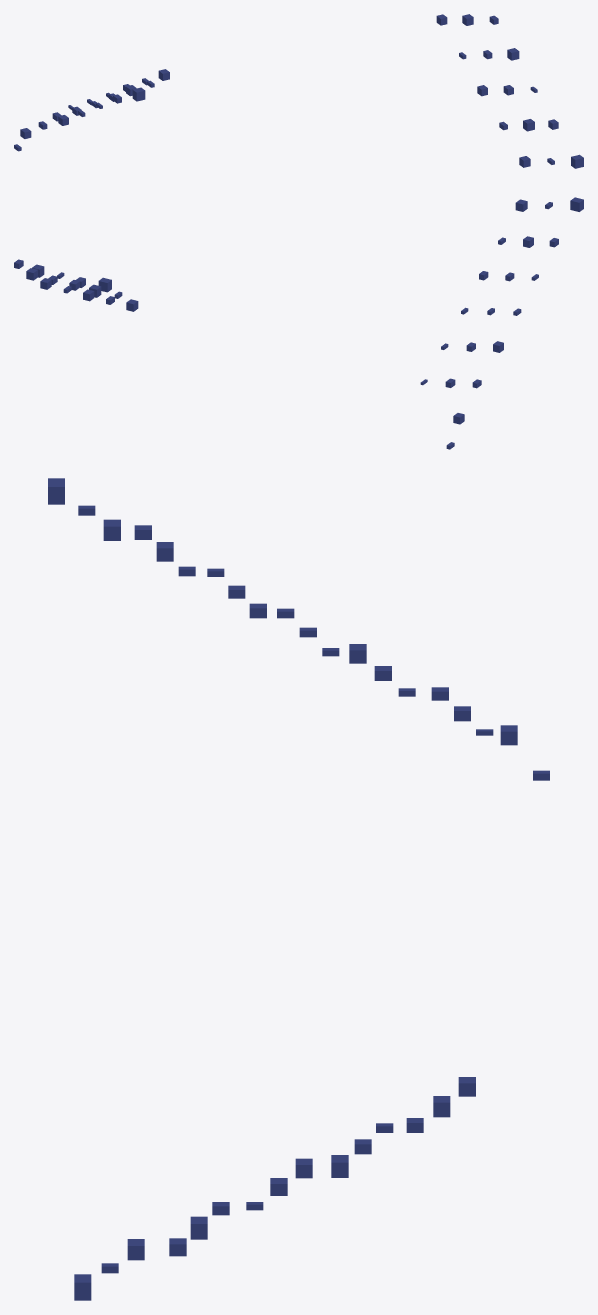
Rendered from bg-boxes-9.glb.
3 views of the same model, one above another, from view 1: azimuth 30°, elevation 25°; view 2: azimuth 150°, elevation 25°; view 3: azimuth 270°, elevation 25° (orthographic). The views are drawn at different scales.
Size of the model in its own units: 0.2232 by 0.0891 by 0.1069.
